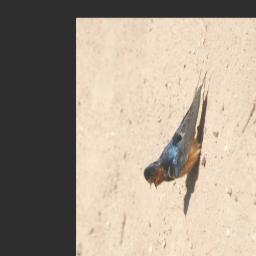Swallow: (140, 62, 211, 195)
